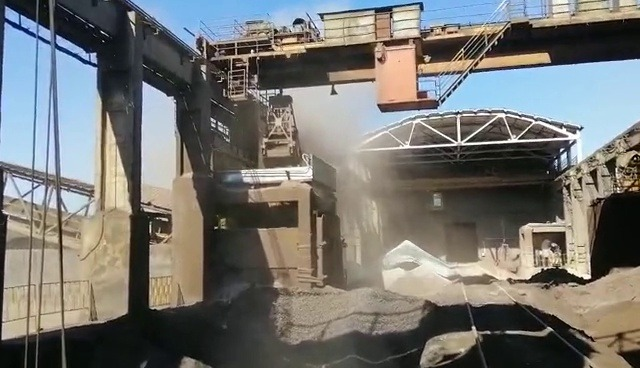dust: (215, 79, 471, 294)
grab: (255, 89, 305, 169)
